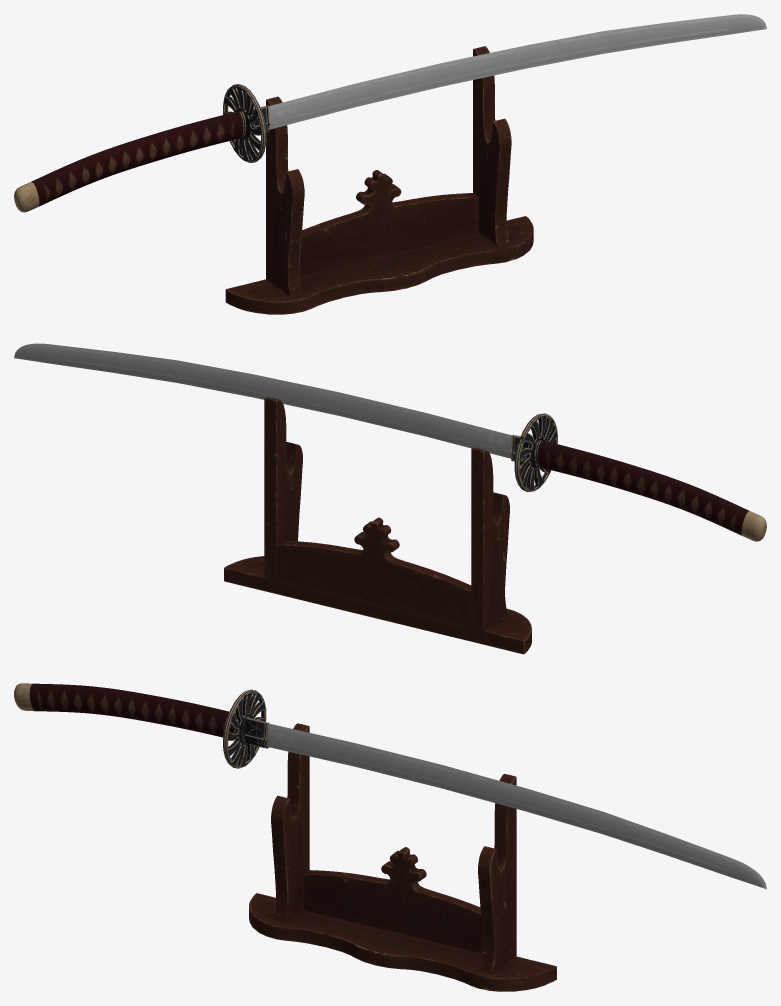
File: katana.glb
3 views of the same model, one above another, from view 1: azimuth 30°, elevation 25°; view 2: azimuth 150°, elevation 25°; view 3: azimuth 330°, elevation 25° (orthographic).
Parts seen in each view (by area): view 1: katana_stand_01; view 2: katana_stand_01; view 3: katana_stand_01.
Boxes of the visible parts, x1,y1,x2,y2 form: katana_stand_01: (14,14,766,314); katana_stand_01: (14,343,766,654); katana_stand_01: (14,683,766,991).
Bounding box in the file's own units: 0.26 × 0.0749 × 0.0242.
2 materials, 2 textured.
